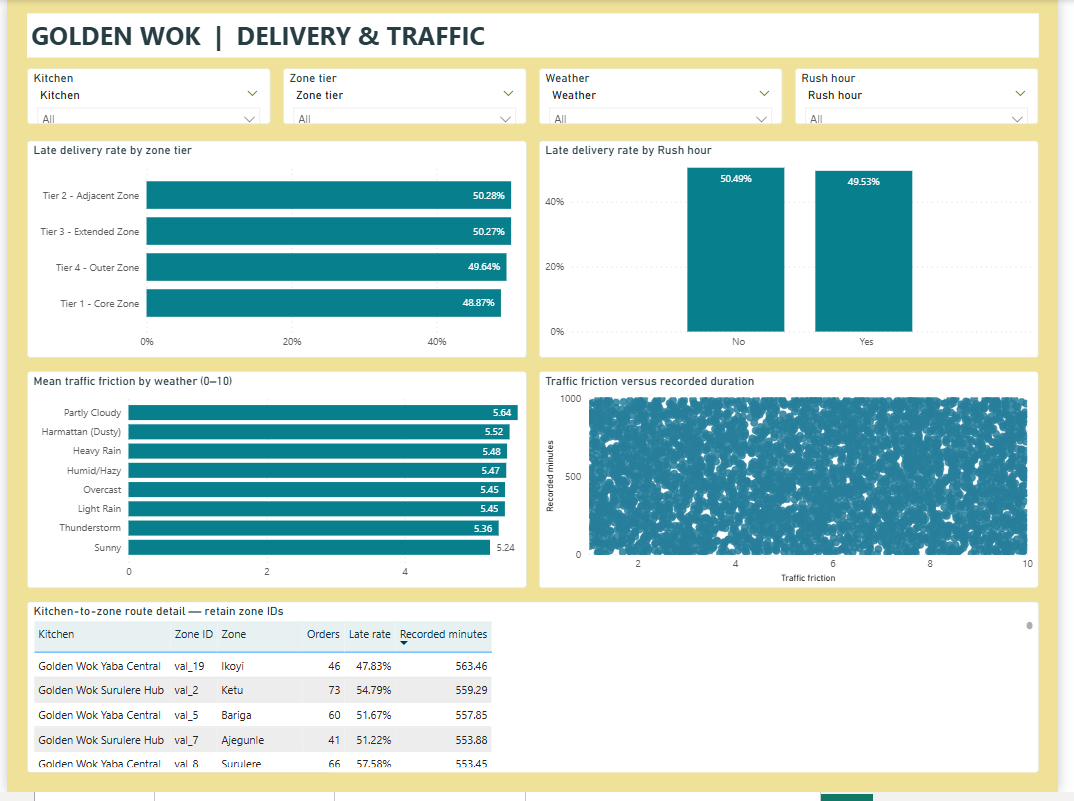

The page's visual inventory and layout, read from the dashboard file:
{"tool":"powerbi","page":{"name":"Delivery & Traffic","canvas":[1280,964],"ordinal":1},"visuals":[{"type":"slicer","title":"Kitchen","fields":{"Values":["dim_kitchen.kitchen_name"]},"box":[24,84,296,68],"z":0},{"type":"slicer","title":"Zone tier","fields":{"Values":["dim_delivery_zone.zone_tier"]},"box":[336,84,296,68],"z":1000},{"type":"slicer","title":"Weather","fields":{"Values":["dim_time_slot.weather_condition"]},"box":[648,84,296,68],"z":2000},{"type":"slicer","title":"Rush hour","fields":{"Values":["dim_time_slot.is_rush_hour"]},"box":[960,84,296,68],"z":3000},{"type":"clusteredBarChart","title":"Late delivery rate by zone tier","fields":{"Category":["dim_delivery_zone.zone_tier"],"Y":["Delivery_Time_Quality_Summary.Late Delivery Rate"]},"box":[24,172,608,264],"z":4000},{"type":"clusteredColumnChart","title":"Late delivery rate by Rush hour","fields":{"Category":["dim_time_slot.is_rush_hour"],"Y":["Delivery_Time_Quality_Summary.Late Delivery Rate"]},"box":[648,172,608,264],"z":5000},{"type":"clusteredBarChart","title":"Mean traffic friction by weather (0–10)","fields":{"Category":["dim_time_slot.weather_condition"],"Y":["Avg(fact_orders.traffic_friction_score)"]},"box":[24,452,608,264],"z":6000},{"type":"scatterChart","title":"Traffic friction versus recorded duration","fields":{"Category":["fact_orders.order_id"],"X":["Avg(fact_orders.traffic_friction_score)"],"Y":["Avg(fact_orders.actual_delivery_min)"]},"box":[648,452,608,264],"z":7000},{"type":"tableEx","title":"Kitchen-to-zone route detail — retain zone IDs","fields":{"Values":["dim_kitchen.kitchen_name","dim_delivery_zone.zone_id","dim_delivery_zone.zone_name","Delivery_Time_Quality_Summary.Total Orders","Delivery_Time_Quality_Summary.Late Delivery Rate","Delivery_Time_Quality_Summary.Average Recorded Delivery Time"]},"box":[24,732,1232,208],"z":8000},{"type":"textbox","box":[24,16,1232,54],"z":9000}]}

Visuals, with their boxes in screenshot pixels (x1, y1, x2, y2), scaled from the page's 1280x964 canvas onto the 1074x801 screenshot:
"Kitchen" slicer: l=20, t=70, r=268, b=126
"Zone tier" slicer: l=282, t=70, r=530, b=126
"Weather" slicer: l=544, t=70, r=792, b=126
"Rush hour" slicer: l=806, t=70, r=1054, b=126
"Late delivery rate by zone tier" clusteredBarChart: l=20, t=143, r=530, b=362
"Late delivery rate by Rush hour" clusteredColumnChart: l=544, t=143, r=1054, b=362
"Mean traffic friction by weather (0–10)" clusteredBarChart: l=20, t=376, r=530, b=595
"Traffic friction versus recorded duration" scatterChart: l=544, t=376, r=1054, b=595
"Kitchen-to-zone route detail — retain zone IDs" tableEx: l=20, t=608, r=1054, b=781
textbox: l=20, t=13, r=1054, b=58
